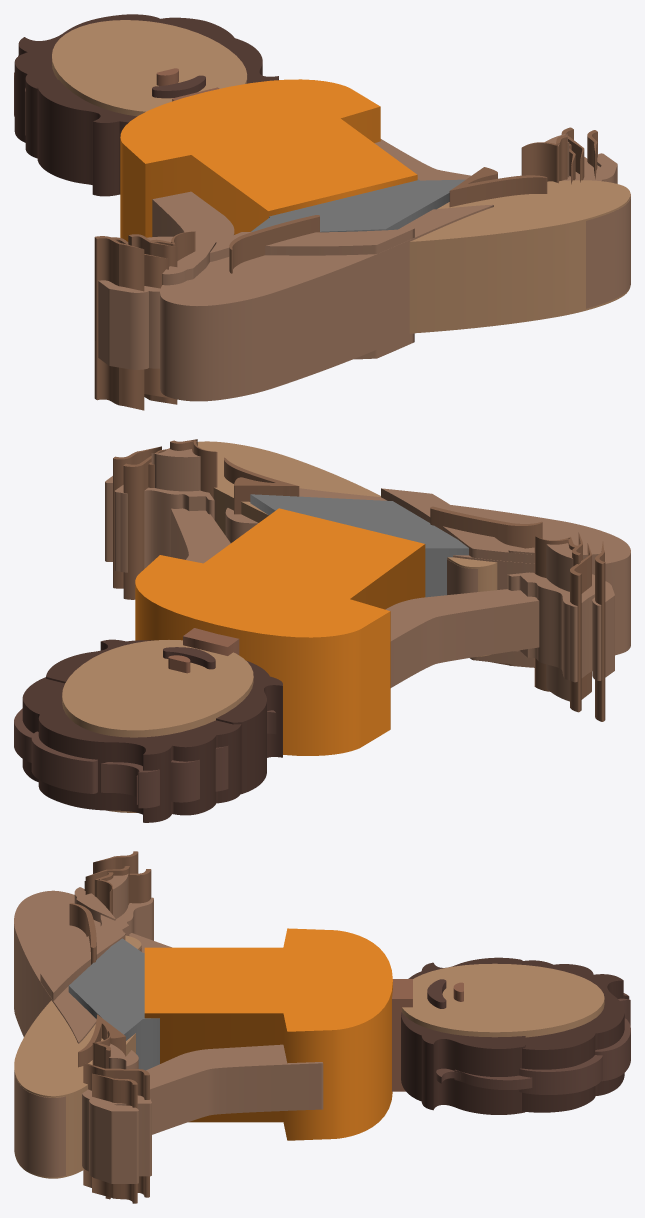
Rendered from emoji_u1f9d8_1f3fd.glb.
The picture shows the model from 3 angles, top to bottom: view 1: azimuth 30°, elevation 25°; view 2: azimuth 150°, elevation 25°; view 3: azimuth 270°, elevation 25°; orthographic projection. The views are drawn at different scales.
Visible parts, largest first — view 1: emoji_u1f9d8_1f3fd; view 2: emoji_u1f9d8_1f3fd; view 3: emoji_u1f9d8_1f3fd.
Boxes of the visible parts, x1,y1,x2,y2 form: emoji_u1f9d8_1f3fd: (14, 14, 630, 410); emoji_u1f9d8_1f3fd: (14, 439, 630, 822); emoji_u1f9d8_1f3fd: (14, 851, 630, 1203).
Size of the model in its own units: 0.029 by 0.009 by 0.0339.
